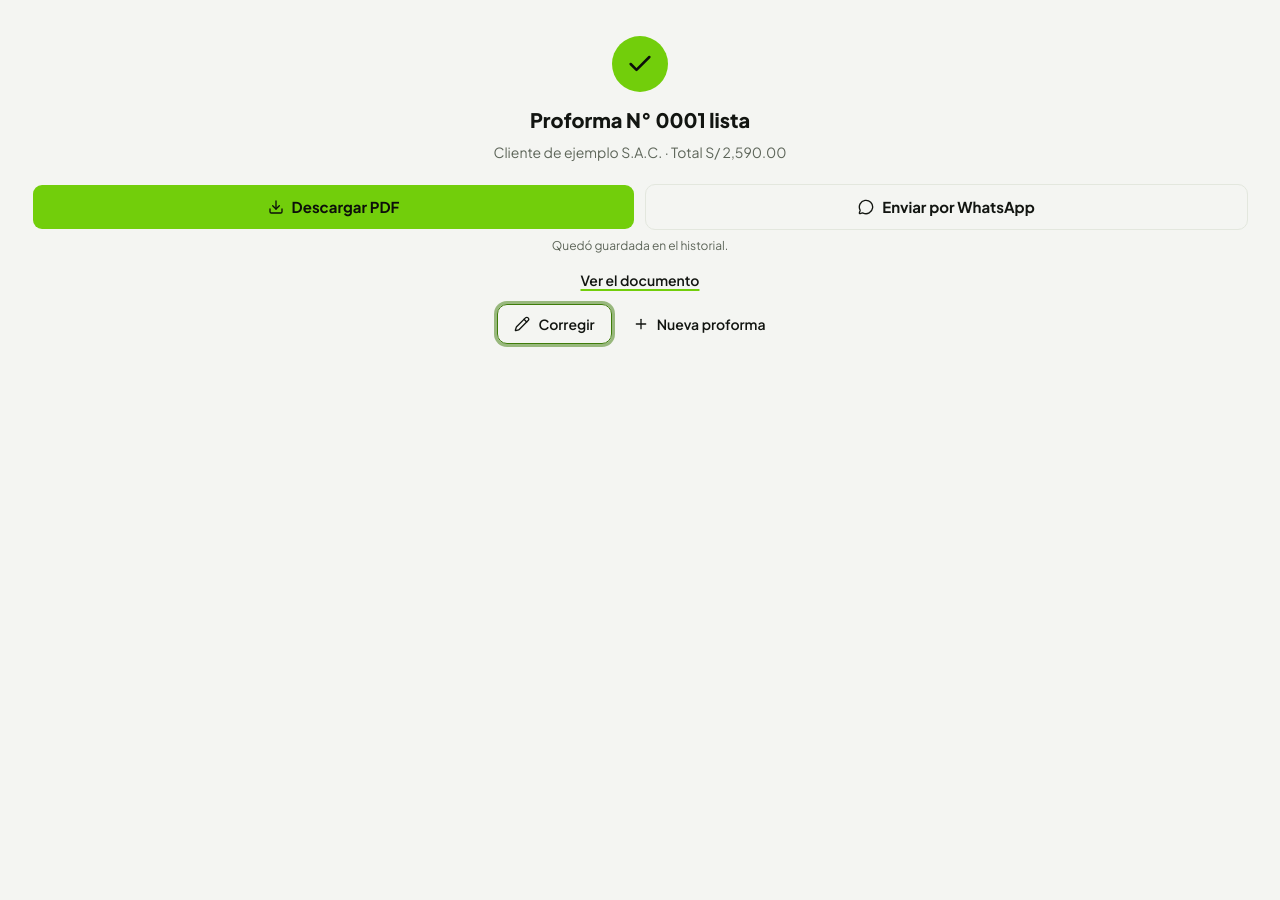
Test case: ProformaReady › si el navegador bloquea la pestaña, «Ver el documento» descarga el PDF y lo avisa
What coordinates should you click on to do the following:
click the button "Ver el documento"
I would click on:
 (640, 280)
Its box is [580, 270, 700, 290].
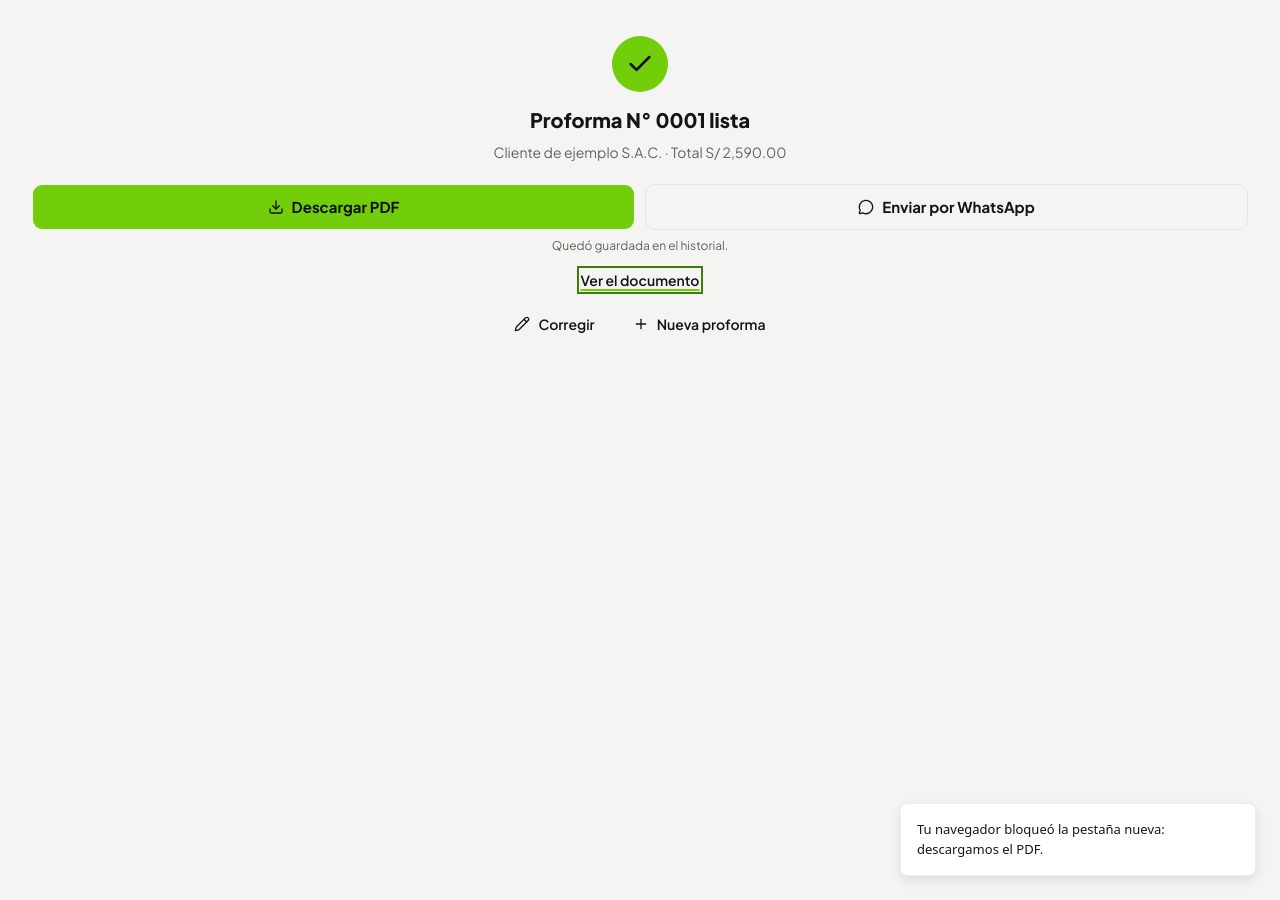
Now the text "Tu navegador bloqueó la pestaña nueva: descargamos el PDF." is shown, box [917, 820, 1165, 858]
